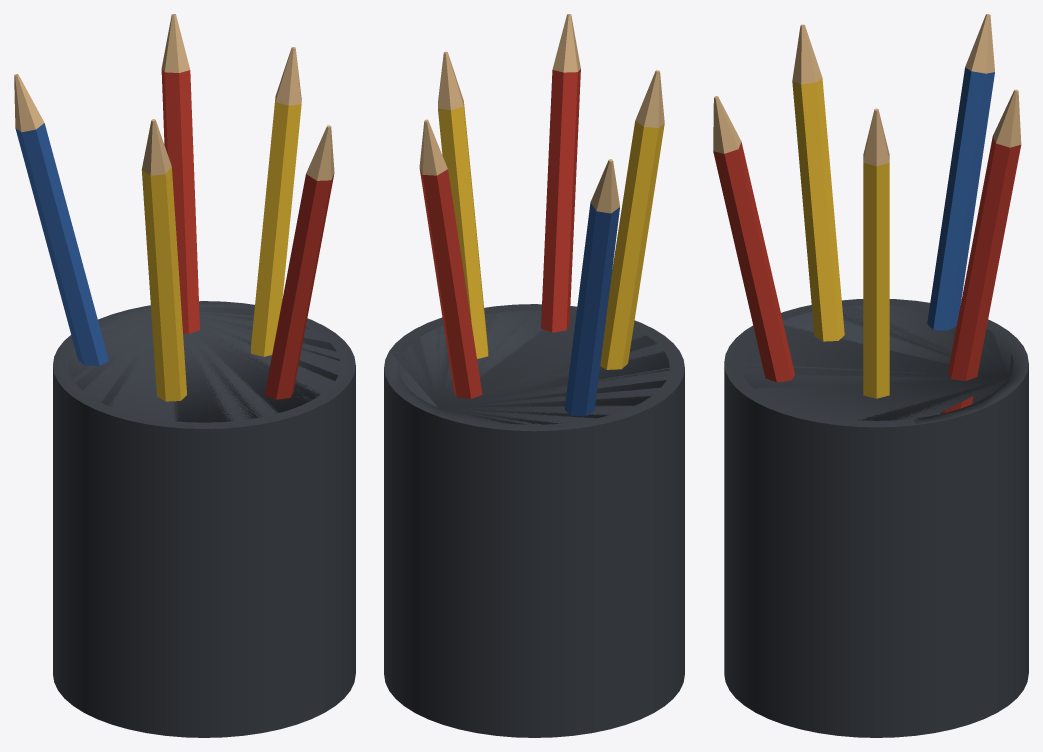
Rendered from PenPot.fbx.
3 views of the same model, side by side, from view 1: azimuth 30°, elevation 25°; view 2: azimuth 150°, elevation 25°; view 3: azimuth 270°, elevation 25° (orthographic).
Visible parts, largest first — view 1: PenPot; view 2: PenPot; view 3: PenPot.
Boxes of the visible parts, left/top/right/bottom form: PenPot: left=14, top=14, right=355, bottom=737; PenPot: left=384, top=14, right=684, bottom=737; PenPot: left=713, top=14, right=1028, bottom=737.
Bounding box in the file's own units: 8.11 × 17.62 × 8.29.
